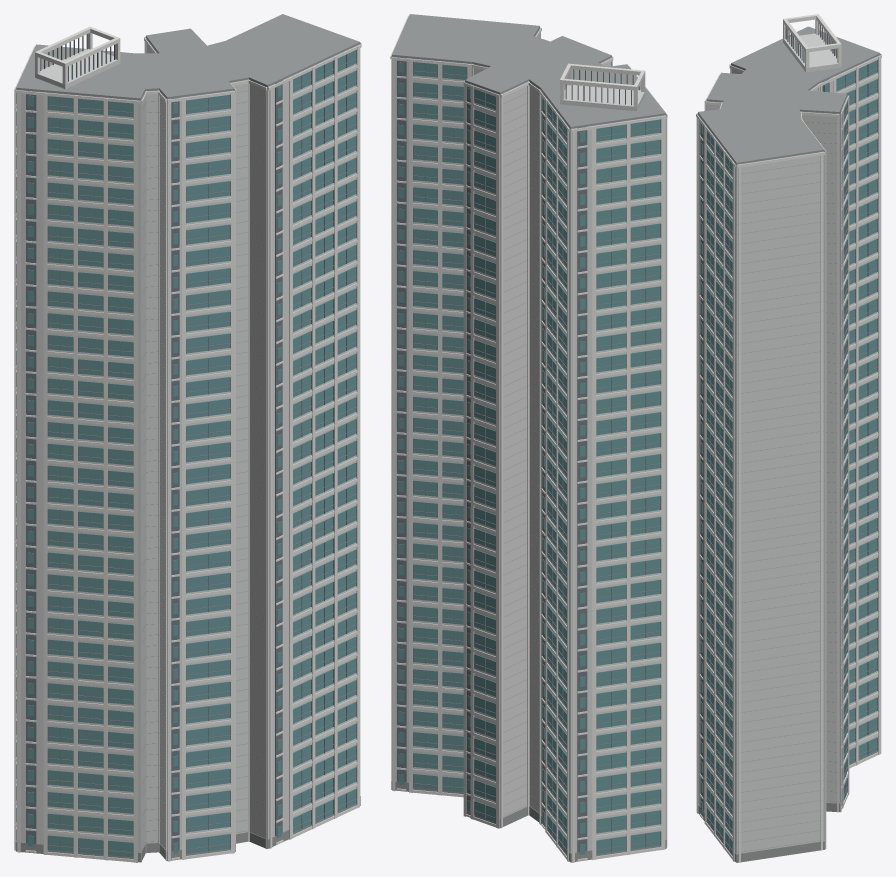
The model's file is bespoke-banpo-riche-102.glb.
The picture shows the model from 3 angles, left to right: view 1: azimuth 30°, elevation 25°; view 2: azimuth 150°, elevation 25°; view 3: azimuth 270°, elevation 25°; orthographic projection. The views are drawn at different scales.
Visible parts, largest first — view 1: Riche102_editable_Riche102_light_grey_solid_wall, Riche102_editable_Riche102_teal_rectangular_grouped_windows, Riche102_editable_Riche102_broad_white_facade_frames, Riche102_editable_Riche102_dark_horizontal_spandrels_and_mul, Riche102_editable_Riche102_modest_grey_flat_roof_caps, Riche102_editable_Riche102_dark_recessed_service_strip, Riche102_editable_Riche102_muted_ground_wall; view 2: Riche102_editable_Riche102_teal_rectangular_grouped_windows, Riche102_editable_Riche102_light_grey_solid_wall, Riche102_editable_Riche102_broad_white_facade_frames, Riche102_editable_Riche102_dark_horizontal_spandrels_and_mul, Riche102_editable_Riche102_dark_recessed_service_strip, Riche102_editable_Riche102_modest_grey_flat_roof_caps, Riche102_editable_Riche102_muted_ground_wall; view 3: Riche102_editable_Riche102_light_grey_solid_wall, Riche102_editable_Riche102_broad_white_facade_frames, Riche102_editable_Riche102_teal_rectangular_grouped_windows, Riche102_editable_Riche102_modest_grey_flat_roof_caps, Riche102_editable_Riche102_dark_horizontal_spandrels_and_mul, Riche102_editable_Riche102_dark_recessed_service_strip, Riche102_editable_Riche102_muted_ground_wall.
Part boxes in pixels (x1=…): Riche102_editable_Riche102_light_grey_solid_wall: x1=16, y1=38, x2=360, y2=852; Riche102_editable_Riche102_teal_rectangular_grouped_windows: x1=27, y1=50, x2=355, y2=857; Riche102_editable_Riche102_broad_white_facade_frames: x1=14, y1=26, x2=361, y2=862; Riche102_editable_Riche102_dark_horizontal_spandrels_and_mul: x1=16, y1=49, x2=356, y2=857; Riche102_editable_Riche102_modest_grey_flat_roof_caps: x1=16, y1=14, x2=360, y2=848; Riche102_editable_Riche102_dark_recessed_service_strip: x1=26, y1=34, x2=282, y2=851; Riche102_editable_Riche102_muted_ground_wall: x1=15, y1=796, x2=360, y2=862; Riche102_editable_Riche102_teal_rectangular_grouped_windows: x1=398, y1=62, x2=660, y2=854; Riche102_editable_Riche102_light_grey_solid_wall: x1=392, y1=28, x2=665, y2=853; Riche102_editable_Riche102_broad_white_facade_frames: x1=390, y1=15, x2=667, y2=862; Riche102_editable_Riche102_dark_horizontal_spandrels_and_mul: x1=413, y1=62, x2=661, y2=854; Riche102_editable_Riche102_dark_recessed_service_strip: x1=397, y1=57, x2=639, y2=852; Riche102_editable_Riche102_modest_grey_flat_roof_caps: x1=391, y1=14, x2=665, y2=816; Riche102_editable_Riche102_muted_ground_wall: x1=391, y1=780, x2=666, y2=862; Riche102_editable_Riche102_light_grey_solid_wall: x1=698, y1=33, x2=880, y2=853; Riche102_editable_Riche102_broad_white_facade_frames: x1=696, y1=14, x2=881, y2=862; Riche102_editable_Riche102_teal_rectangular_grouped_windows: x1=700, y1=60, x2=877, y2=853; Riche102_editable_Riche102_modest_grey_flat_roof_caps: x1=698, y1=26, x2=880, y2=852; Riche102_editable_Riche102_dark_horizontal_spandrels_and_mul: x1=706, y1=60, x2=878, y2=850; Riche102_editable_Riche102_dark_recessed_service_strip: x1=700, y1=22, x2=841, y2=811; Riche102_editable_Riche102_muted_ground_wall: x1=698, y1=750, x2=877, y2=862.
Bounding box in the file's own units: 41.16 × 101 × 23.46.
